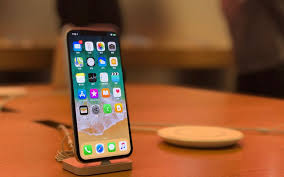iphone: (66, 25, 137, 163)
iphone10: (65, 25, 136, 163)
